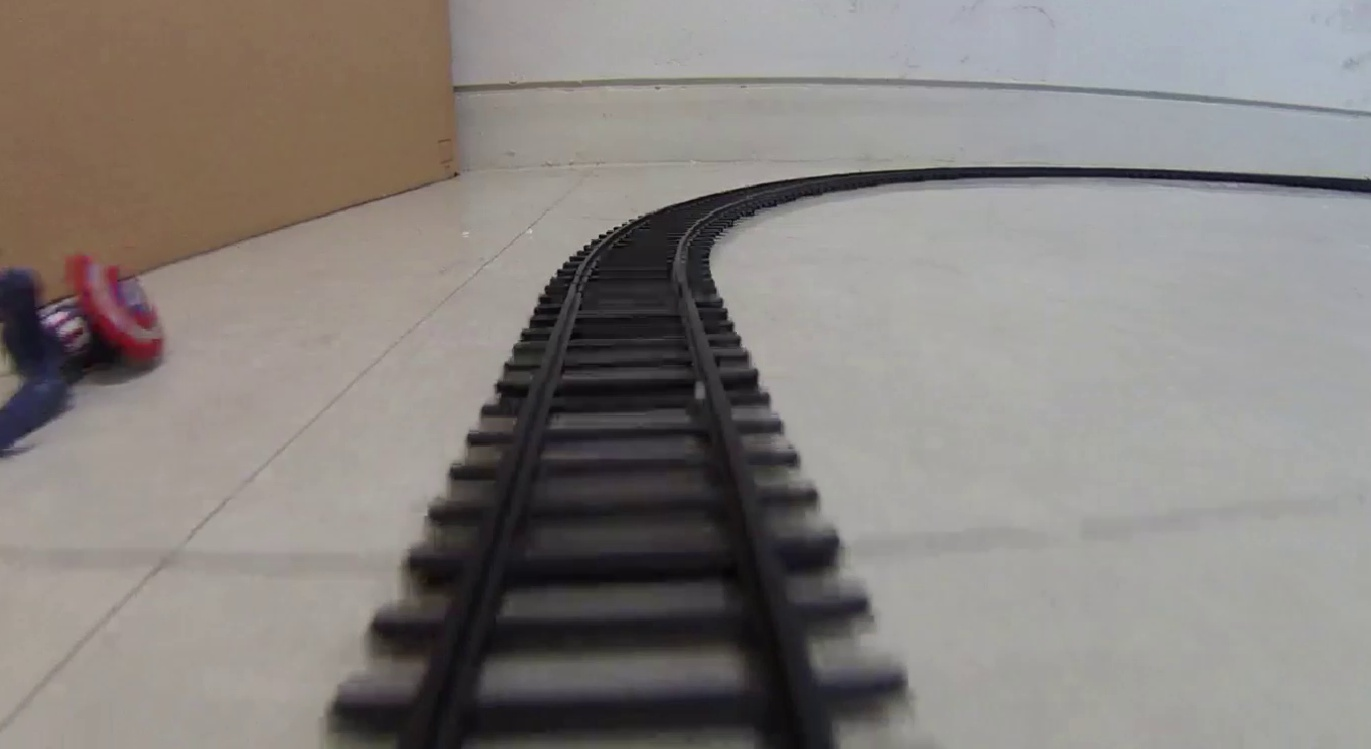people: (1, 253, 164, 457)
